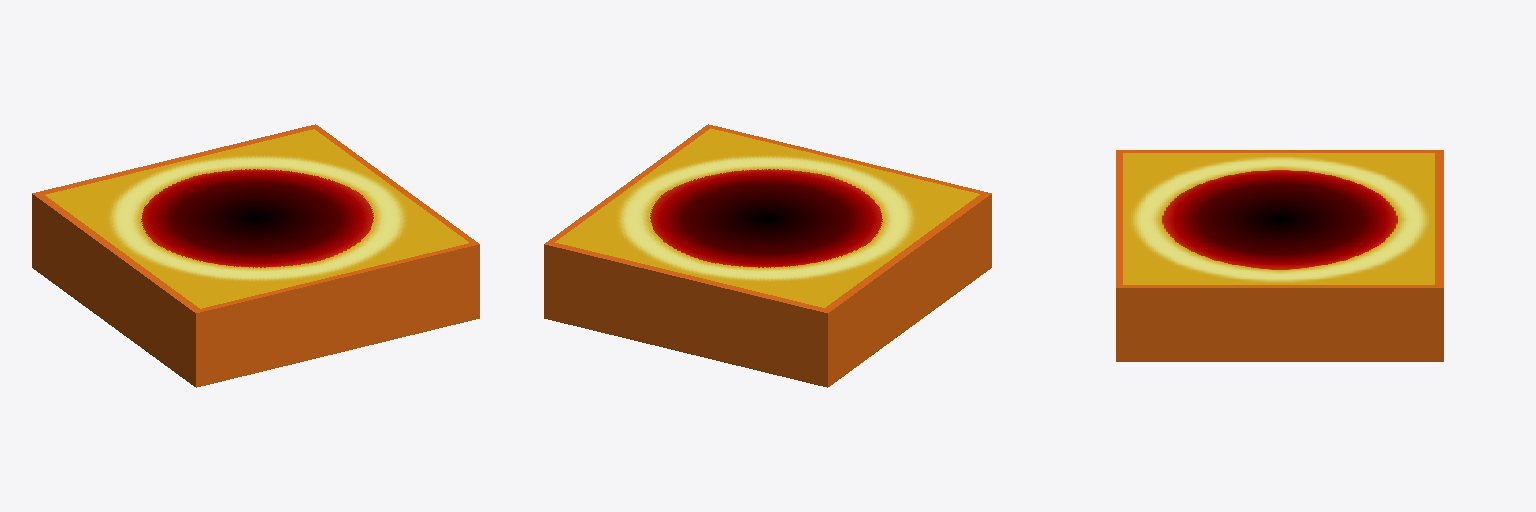
3 renders of one model, left to right at view 1: azimuth 30°, elevation 25°; view 2: azimuth 150°, elevation 25°; view 3: azimuth 270°, elevation 25°, orthographic.
Parts seen in each view (by area): view 1: floor3; view 2: floor3; view 3: floor3.
Boxes of the visible parts, x1,y1,x2,y2 form: floor3: [32, 124, 479, 387]; floor3: [544, 124, 991, 387]; floor3: [1116, 150, 1443, 361].
Bounding box in the file's own units: 1 × 0.25 × 1.
2 materials, 1 textured.